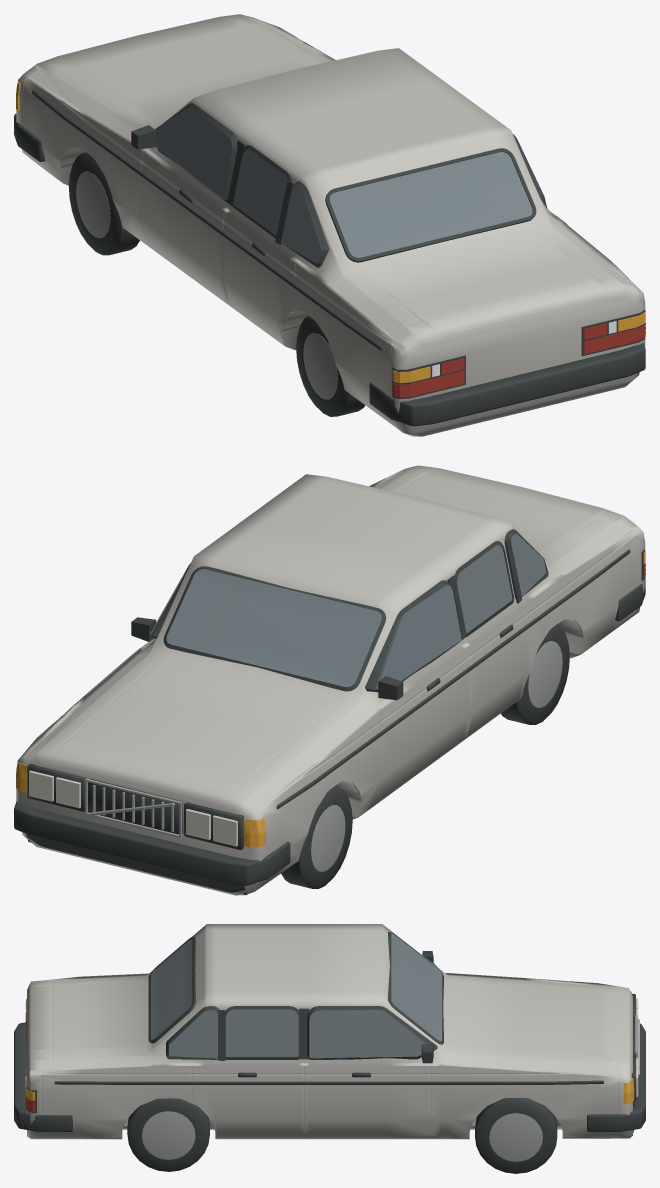
Rendered from volvo240.glb.
3 renders of one model, top to bottom at view 1: azimuth 30°, elevation 25°; view 2: azimuth 150°, elevation 25°; view 3: azimuth 270°, elevation 25°, orthographic. The views are drawn at different scales.
Visible parts, largest first — view 1: body, glass_envelope, trim_rubber, wheel_fl, lamp_rear_red, wheel_rl, trim_rim_wheel_fl, trim_rim_wheel_rl, lamp_indicators, lamp_rear_ribs; view 2: body, glass_envelope, trim_rubber, lamp_front_lenses, wheel_fl, grille, wheel_rl, trim_rim_wheel_rl, trim_rim_wheel_fl, lamp_indicators; view 3: body, glass_envelope, trim_rubber, wheel_fr, wheel_rr, trim_rim_wheel_fr, trim_rim_wheel_rr, lamp_indicators.
Boxes of the visible parts, <box> form: body: <box>16,14,645,436</box>; glass_envelope: <box>155,107,540,263</box>; trim_rubber: <box>14,90,645,426</box>; wheel_fl: <box>68,152,139,255</box>; lamp_rear_red: <box>392,322,645,397</box>; wheel_rl: <box>296,315,365,416</box>; trim_rim_wheel_fl: <box>76,171,110,238</box>; trim_rim_wheel_rl: <box>303,333,337,399</box>; lamp_indicators: <box>16,81,645,383</box>; lamp_rear_ribs: <box>392,323,645,394</box>; body: <box>16,465,645,895</box>; glass_envelope: <box>150,534,546,689</box>; trim_rubber: <box>14,529,645,894</box>; lamp_front_lenses: <box>29,770,237,846</box>; wheel_fl: <box>281,786,352,888</box>; grille: <box>85,778,182,837</box>; wheel_rl: <box>501,624,569,724</box>; trim_rim_wheel_rl: <box>528,641,562,707</box>; trim_rim_wheel_fl: <box>311,805,345,871</box>; lamp_indicators: <box>16,550,645,847</box>; body: <box>27,924,632,1139</box>; glass_envelope: <box>151,933,442,1058</box>; trim_rubber: <box>14,932,645,1138</box>; wheel_fr: <box>475,1098,557,1173</box>; wheel_rr: <box>127,1098,209,1171</box>; trim_rim_wheel_fr: <box>489,1113,542,1161</box>; trim_rim_wheel_rr: <box>142,1111,195,1159</box>; lamp_indicators: <box>25,991,634,1104</box>.
Size of the model in its own units: 1.83 by 1.43 by 4.82.
